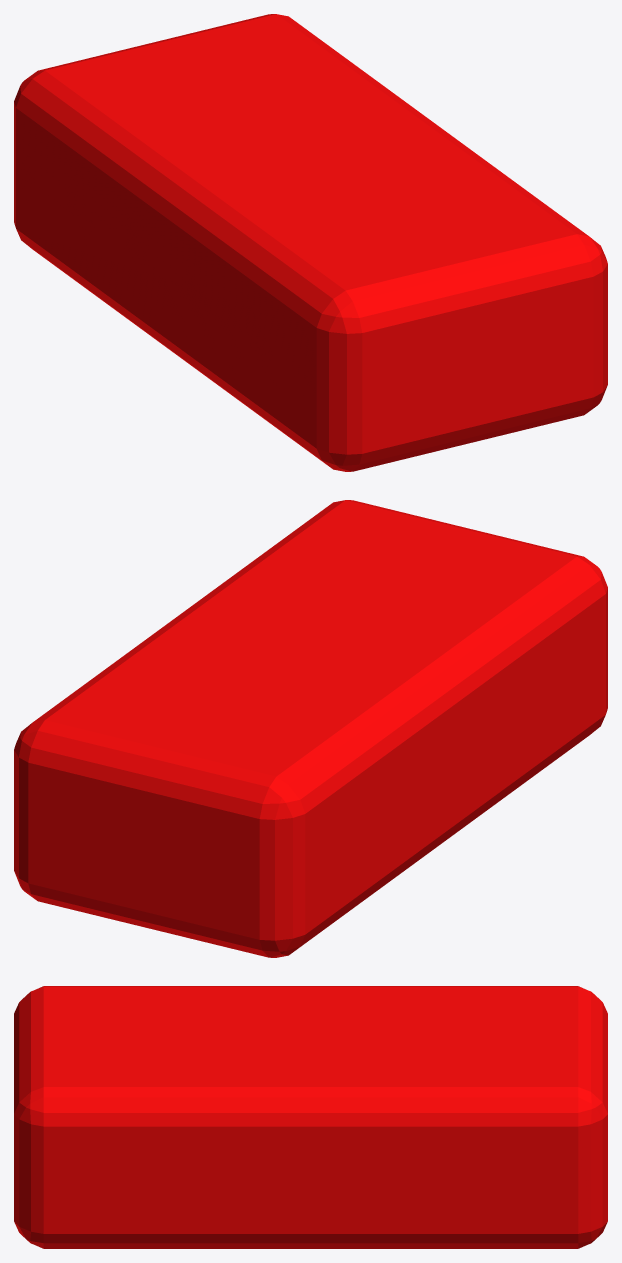
File: ShortBlockRed.fbx
3 views of the same model, one above another, from view 1: azimuth 30°, elevation 25°; view 2: azimuth 150°, elevation 25°; view 3: azimuth 270°, elevation 25° (orthographic). The views are drawn at different scales.
Parts seen in each view (by area): view 1: ShortBlock; view 2: ShortBlock; view 3: ShortBlock.
Boxes of the visible parts, x1=… form: ShortBlock: x1=14, y1=14, x2=607, y2=471; ShortBlock: x1=14, y1=500, x2=607, y2=957; ShortBlock: x1=14, y1=986, x2=607, y2=1248.
Size of the model in its own units: 2 by 1.2 by 4.
